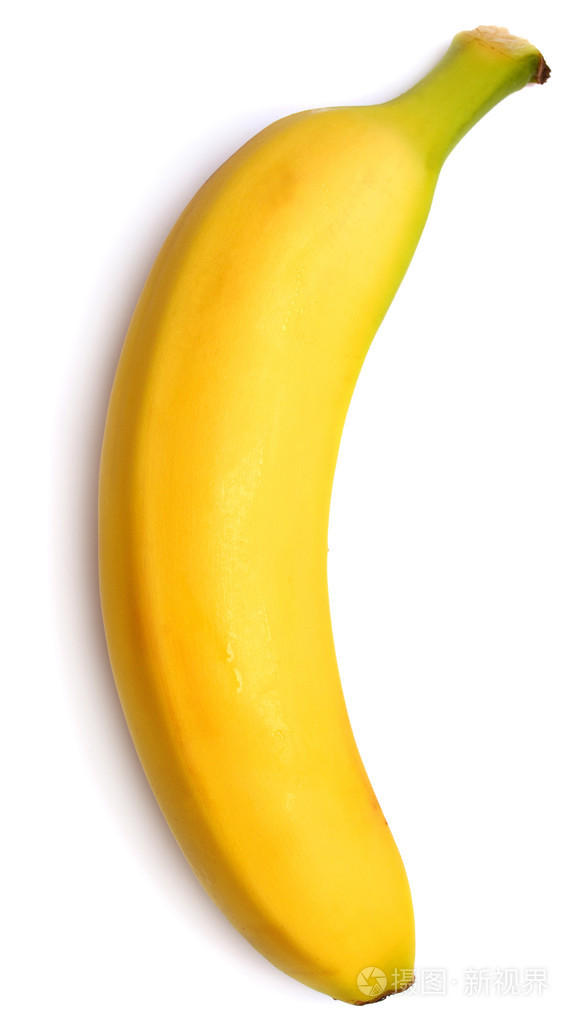banana: (95, 31, 551, 1005)
